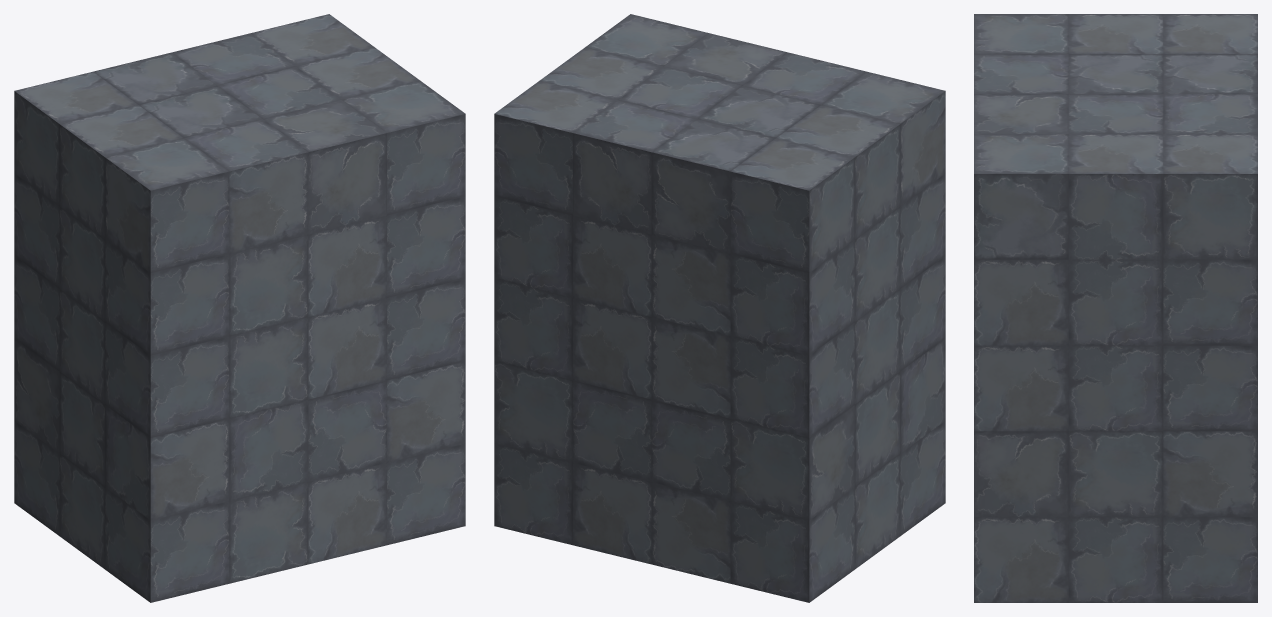
The model's file is Castle Block 4x3x5.fbx.
3 renders of one model, left to right at view 1: azimuth 30°, elevation 25°; view 2: azimuth 150°, elevation 25°; view 3: azimuth 270°, elevation 25°, orthographic. The views are drawn at different scales.
Parts seen in each view (by area): view 1: Castle Block 4x3x5; view 2: Castle Block 4x3x5; view 3: Castle Block 4x3x5.
Part boxes in pixels (x1,y1,x2,y2): Castle Block 4x3x5: (14, 14, 465, 602); Castle Block 4x3x5: (494, 14, 945, 602); Castle Block 4x3x5: (974, 14, 1257, 602).
Size of the model in its own units: 3 by 3.75 by 2.25.
